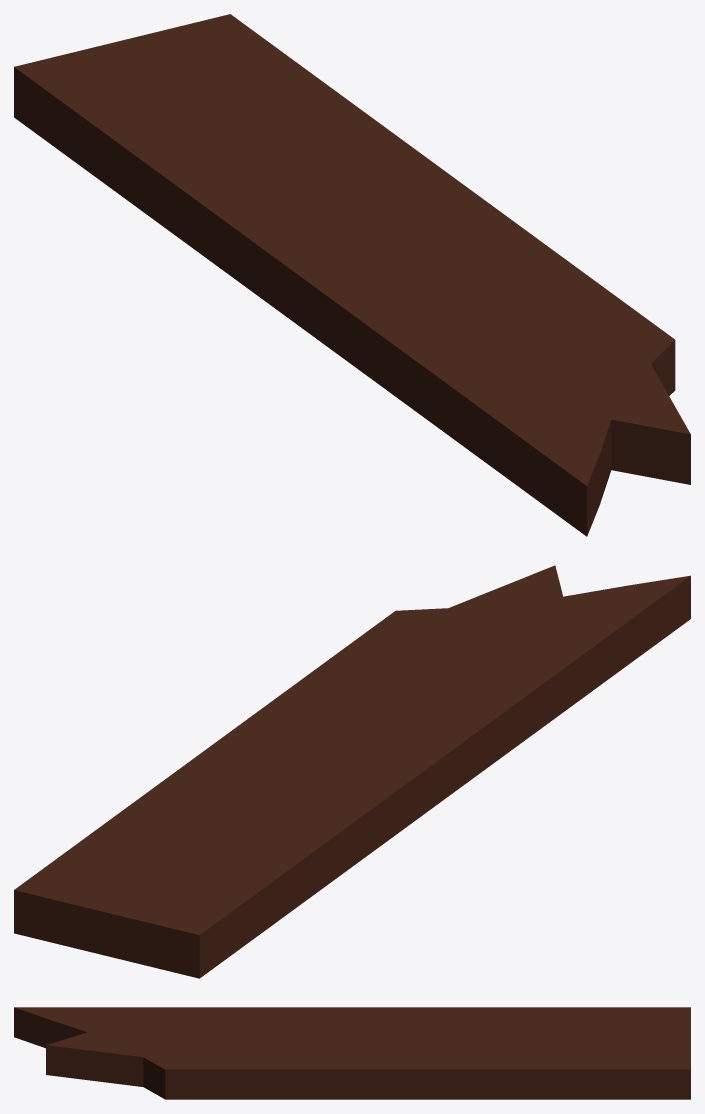
Rendered from broke_box1.fbx.
3 renders of one model, top to bottom at view 1: azimuth 30°, elevation 25°; view 2: azimuth 150°, elevation 25°; view 3: azimuth 270°, elevation 25°, orthographic. The views are drawn at different scales.
Parts seen in each view (by area): view 1: Cube; view 2: Cube; view 3: Cube.
Part boxes in pixels (x1=…): Cube: x1=14, y1=14, x2=690, y2=536; Cube: x1=14, y1=565, x2=690, y2=978; Cube: x1=14, y1=1007, x2=690, y2=1099.
Bounding box in the file's own units: 21.12 × 4.72 × 96.88.
